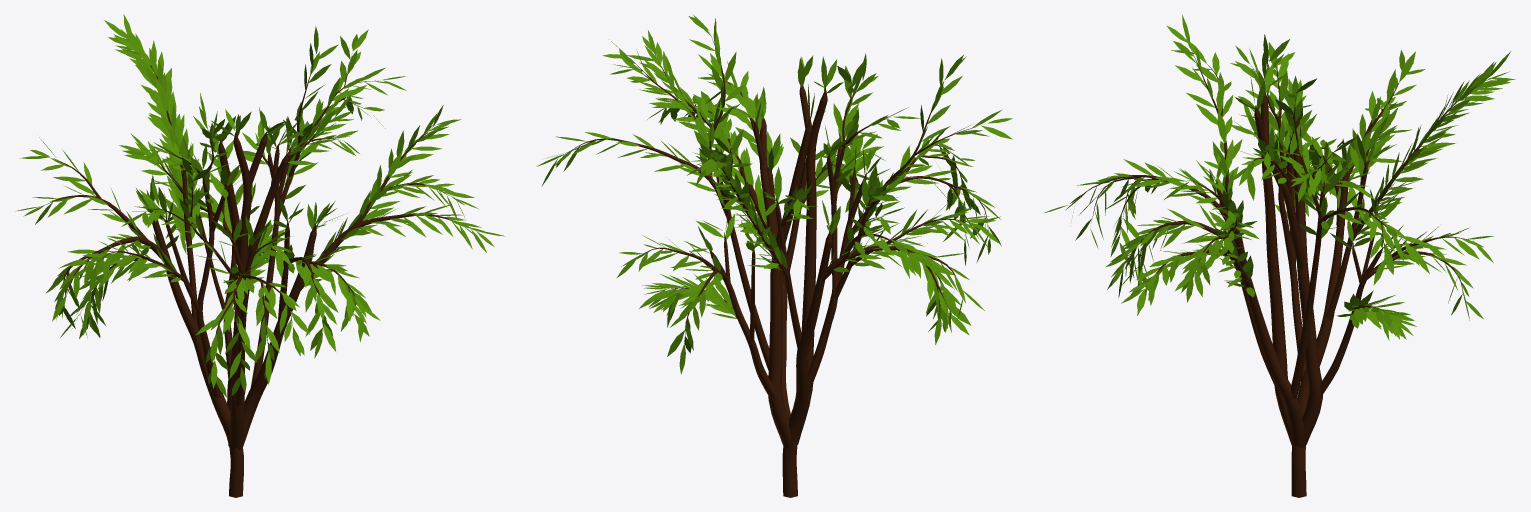
Rendered from Durazno.fbx.
3 renders of one model, left to right at view 1: azimuth 30°, elevation 25°; view 2: azimuth 150°, elevation 25°; view 3: azimuth 270°, elevation 25°, orthographic. The views are drawn at different scales.
Visible parts, largest first — view 1: leaves, tree; view 2: leaves, tree; view 3: leaves, tree.
Boxes of the visible parts, x1,y1,x2,y2 form: leaves: (15, 14, 504, 397); tree: (45, 56, 449, 497); leaves: (536, 14, 1012, 374); tree: (565, 36, 988, 497); leaves: (1044, 14, 1515, 340); tree: (1073, 49, 1468, 497).
Size of the model in its own units: 518 by 575 by 535.
